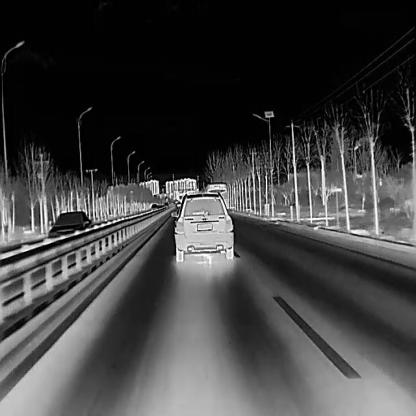bus: (205, 181, 228, 213)
car: (170, 188, 233, 262), (46, 209, 94, 250), (149, 203, 158, 213), (164, 201, 168, 206)
